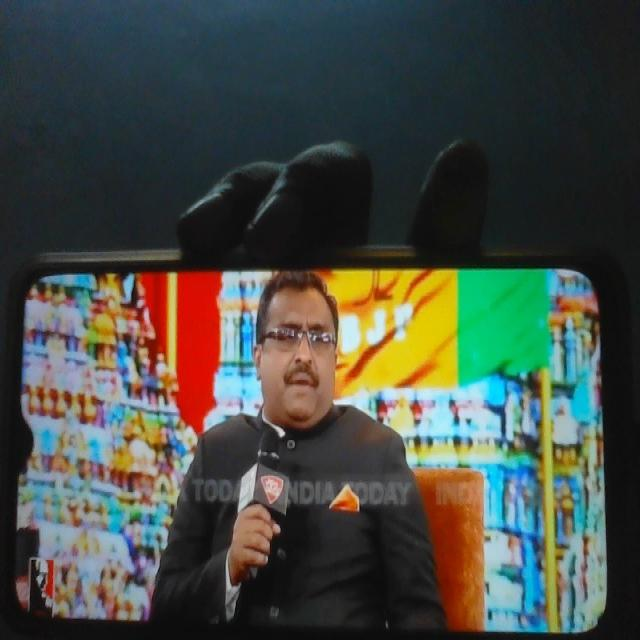fake: (243, 233, 354, 444)
